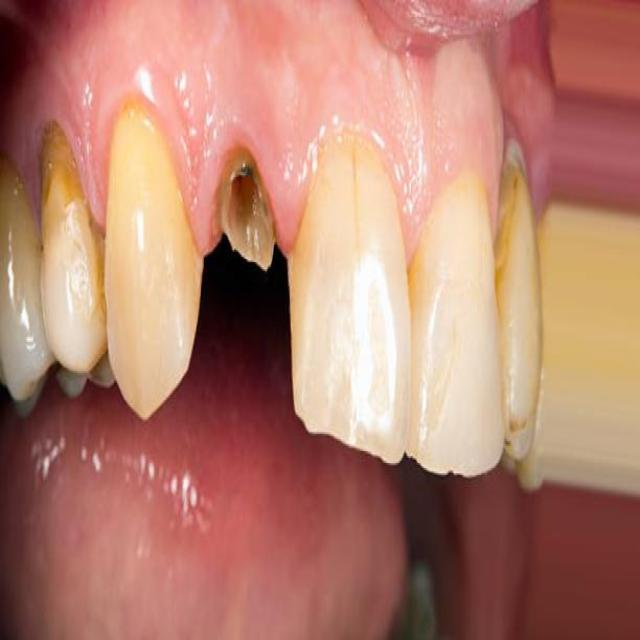caries: (22, 108, 96, 254), (210, 139, 288, 277)
